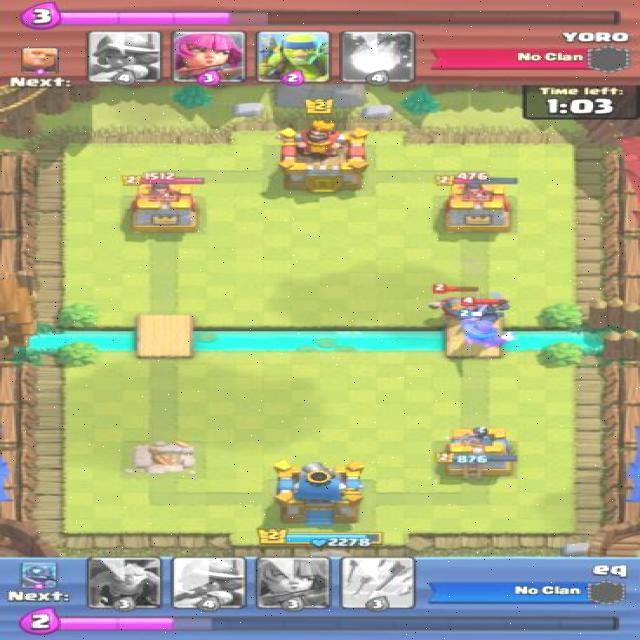EKingTower: (274, 128, 371, 189)
EKnight: (432, 281, 471, 318)
EMiniPeka: (463, 296, 514, 317)
EnemyPrincessTower: (131, 174, 198, 230), (442, 179, 511, 231)
OKnight: (456, 319, 519, 349)
OwnKingTower: (274, 456, 364, 527)
OwnPrincessTower: (444, 427, 517, 478)
TowerDown: (117, 439, 209, 478)
